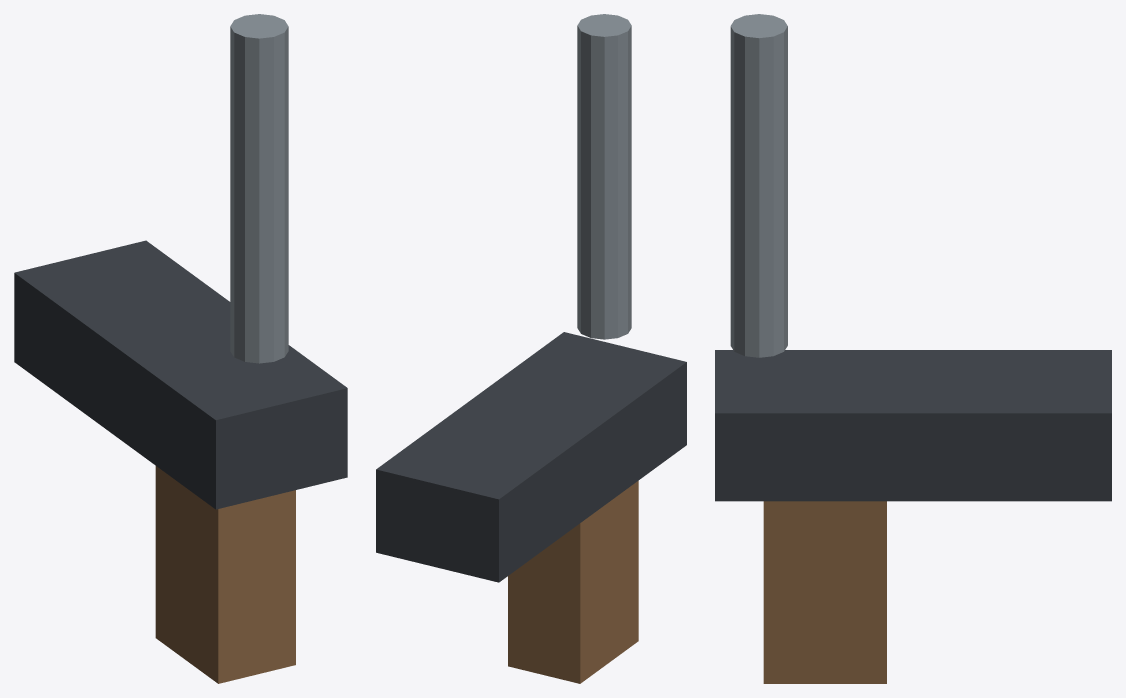
File: pistol_fictional_01.glb
3 views of the same model, side by side, from view 1: azimuth 30°, elevation 25°; view 2: azimuth 150°, elevation 25°; view 3: azimuth 270°, elevation 25° (orthographic). The views are drawn at different scales.
Parts seen in each view (by area): view 1: world; view 2: world; view 3: world.
Part boxes in pixels (box(x1,y1,x2,y2)): world: box(14, 14, 347, 683); world: box(376, 14, 686, 683); world: box(715, 14, 1111, 683).
Bounding box in the file's own units: 0.34 × 1.6 × 0.9.
